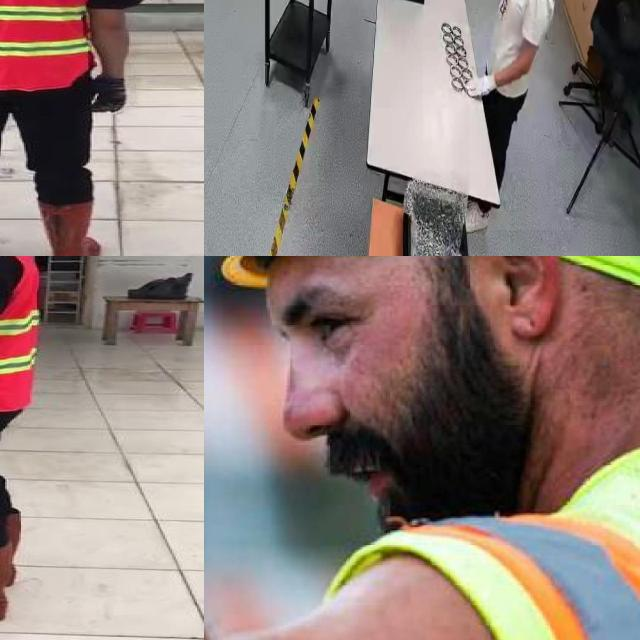No_Ear-Protection: (484, 256, 560, 340)
No_Glasses: (262, 267, 396, 394)
boots: (38, 199, 105, 256)
hand_glove: (88, 75, 131, 115), (471, 68, 499, 106)
person: (0, 0, 152, 256), (469, 0, 574, 231), (0, 256, 54, 640)
vest: (0, 256, 56, 413), (0, 0, 97, 86)
